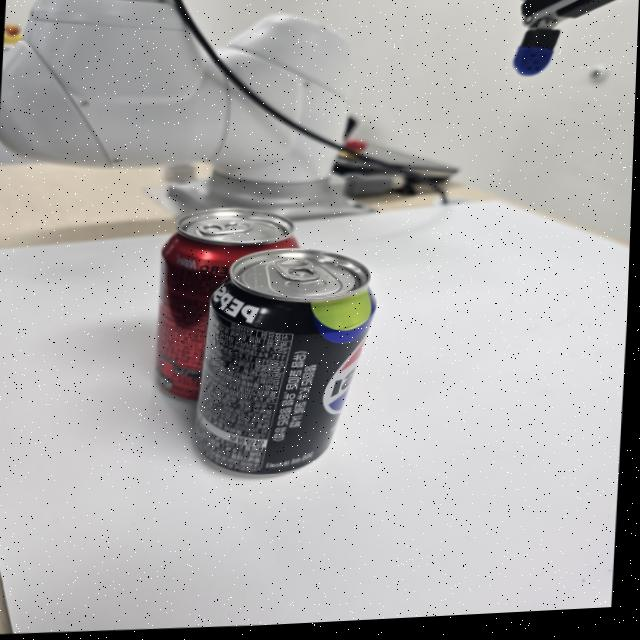can_coke_zero: (153, 209, 295, 399)
can_pepsi_zero: (191, 251, 376, 475)
